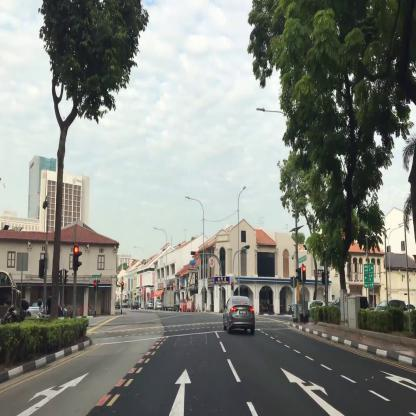red_traffic_light: (73, 247, 78, 268), (302, 266, 306, 281), (191, 250, 197, 254), (121, 282, 123, 290)
